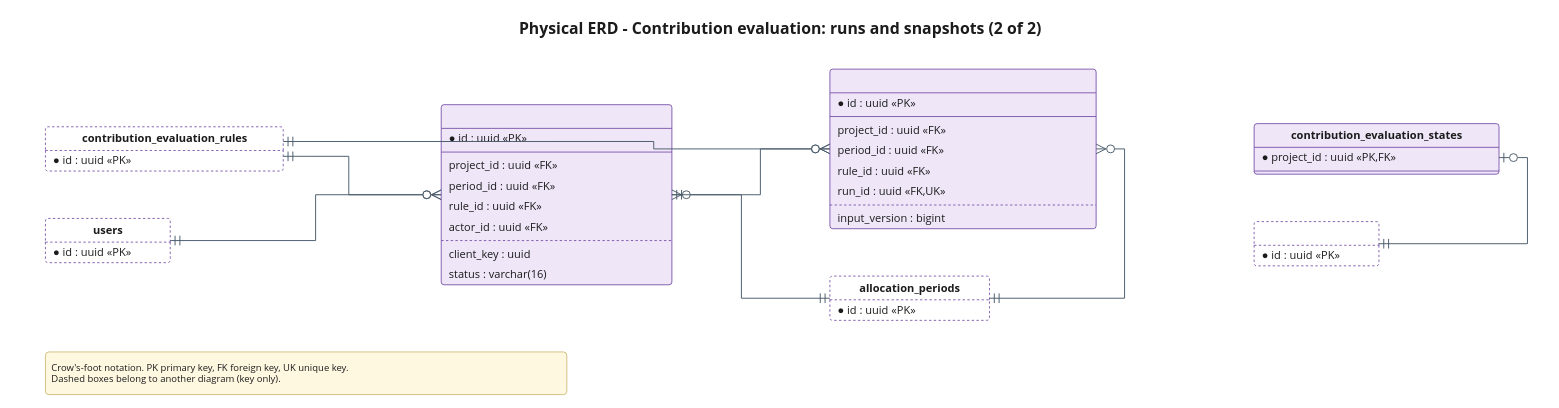
Image size: 1559x408. Some labels were removed from this diagram. Here are the shapes that lost their labels. From the top down, the box of each, then its label:
(829, 68, 1096, 229): contribution_evaluation_snapshots
(440, 104, 672, 285): contribution_evaluation_runs
(1253, 221, 1379, 266): projects
